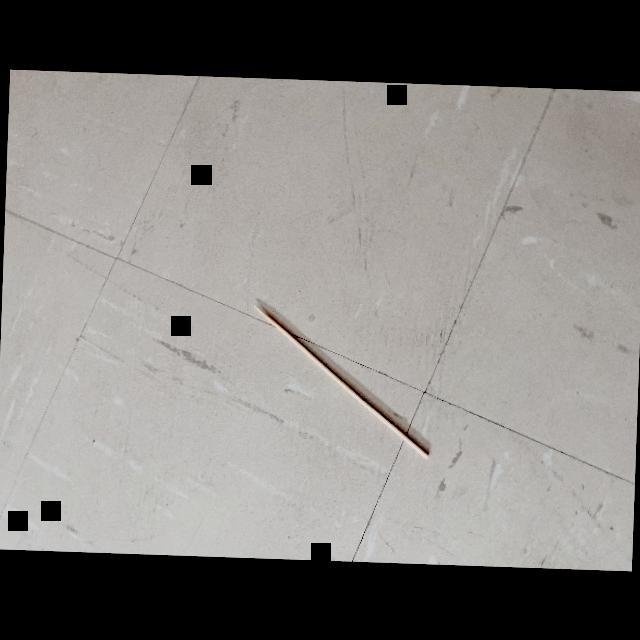stick: (245, 295, 439, 463)
